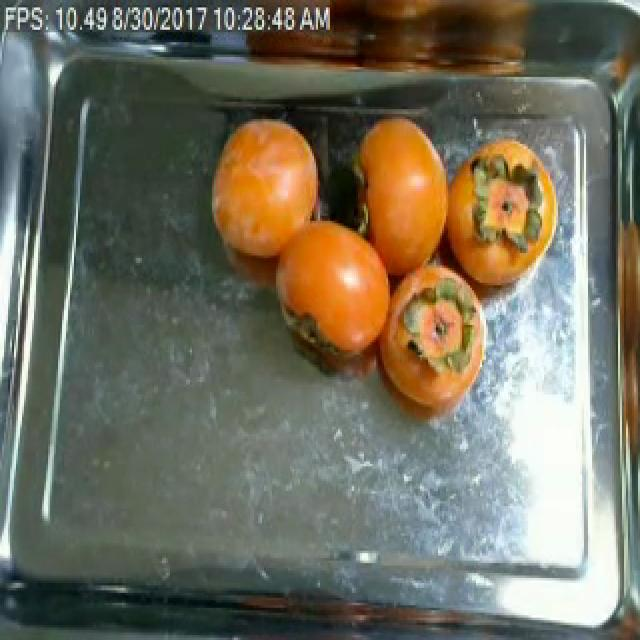Fruit: (260, 203, 404, 370), (342, 104, 462, 288), (196, 110, 328, 270)
